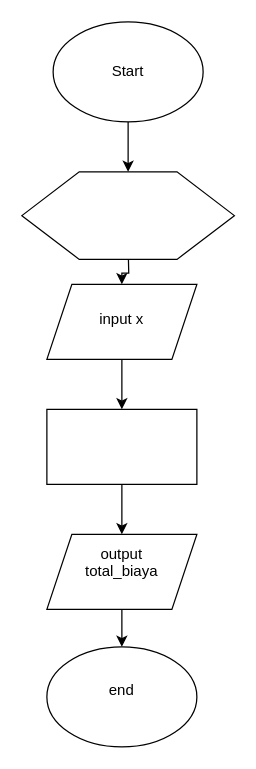
This 256x769 diagram has some shape labels left out. Here are the shapes that lost their labels. From the top down, the box of each, then its label:
(21, 171, 234, 259): int x, biaya_cetak = 500, biaya_jilid = 5000, total_biaya
(46, 408, 197, 484): total_biaya = x * biaya_cetal + biaya_jilid
